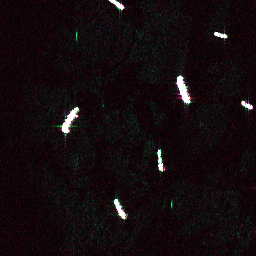ship: (57, 104, 84, 136), (172, 72, 194, 107), (111, 196, 129, 222), (238, 98, 255, 112), (155, 147, 164, 173), (108, 1, 126, 13), (212, 29, 229, 41)
